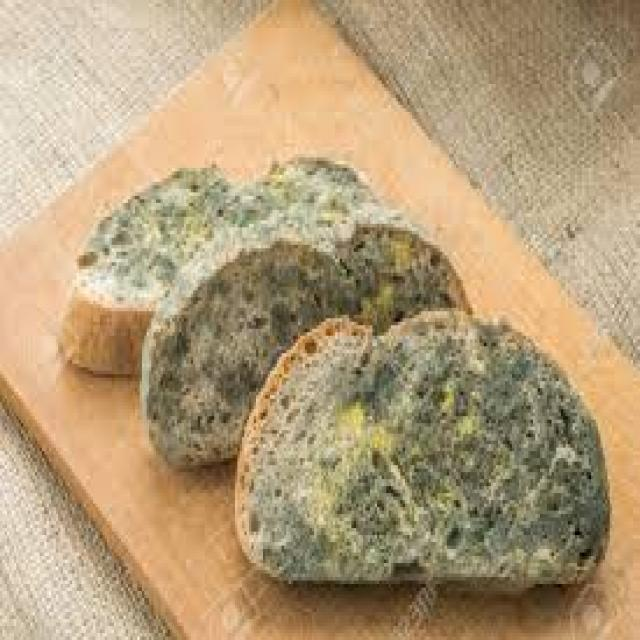organic waste: (233, 300, 607, 594), (130, 199, 468, 465), (53, 143, 380, 374)
